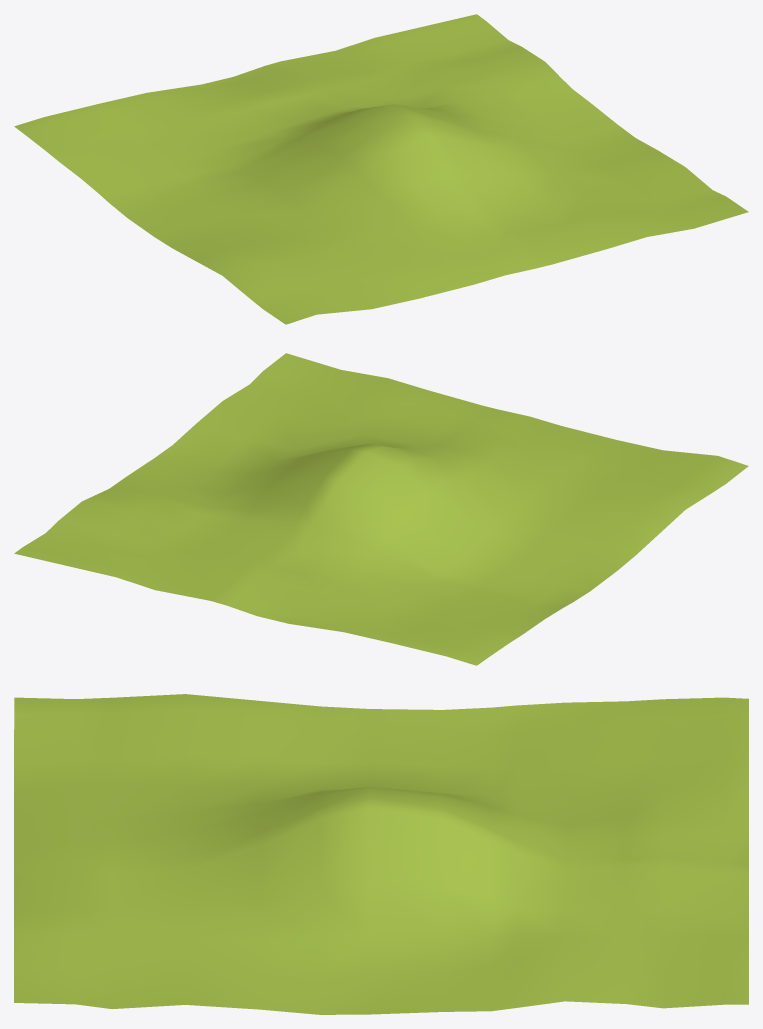
The model's file is collider_bosse_pos4.fbx.
3 views of the same model, one above another, from view 1: azimuth 30°, elevation 25°; view 2: azimuth 150°, elevation 25°; view 3: azimuth 270°, elevation 25° (orthographic). The views are drawn at different scales.
Parts seen in each view (by area): view 1: collider_bosse_pos4; view 2: collider_bosse_pos4; view 3: collider_bosse_pos4.
Boxes of the visible parts, x1=… form: collider_bosse_pos4: x1=14, y1=14, x2=748, y2=324; collider_bosse_pos4: x1=14, y1=353, x2=748, y2=665; collider_bosse_pos4: x1=14, y1=694, x2=748, y2=1014.
Size of the model in its own units: 708 by 88.79 by 720.
